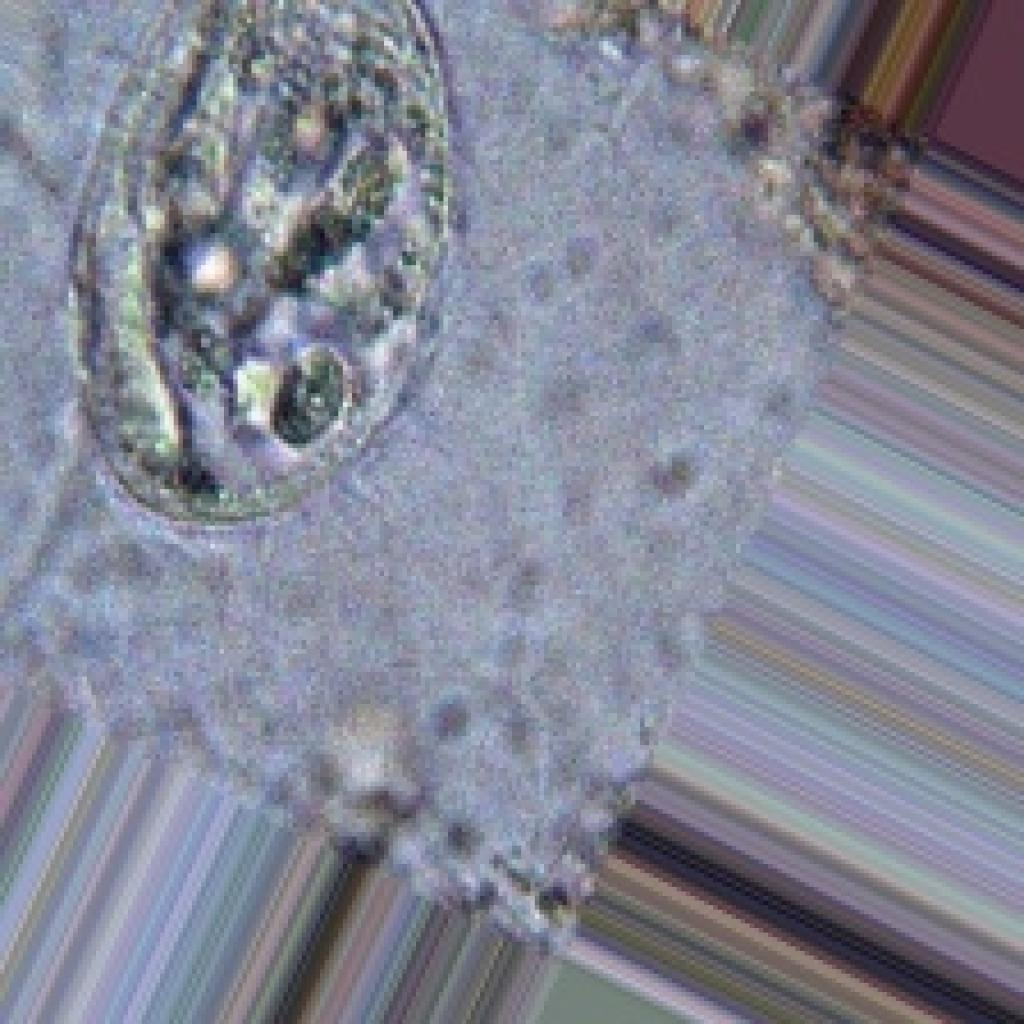Sphericalbacteria: (0, 0, 914, 955)
